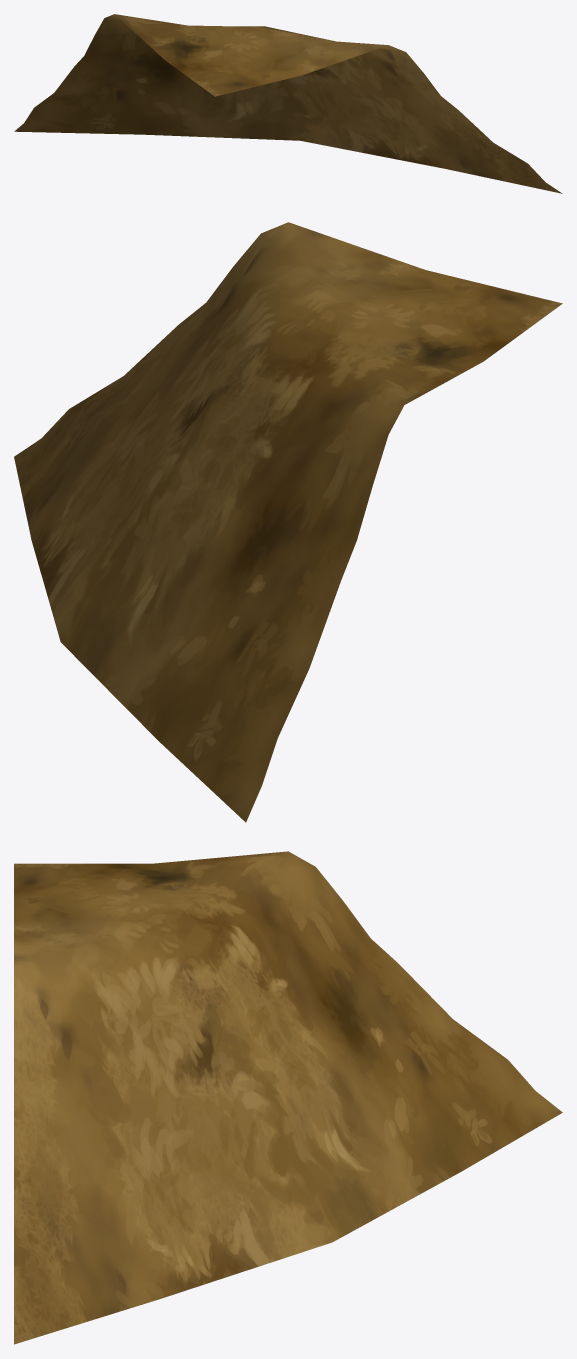
Rendered from Levelled_Slope_Corner_007.fbx.
3 renders of one model, top to bottom at view 1: azimuth 30°, elevation 25°; view 2: azimuth 150°, elevation 25°; view 3: azimuth 270°, elevation 25°, orthographic. The views are drawn at different scales.
Visible parts, largest first — view 1: Levelled_Slope_Corner_007; view 2: Levelled_Slope_Corner_007; view 3: Levelled_Slope_Corner_007.
Boxes of the visible parts, <box> form: Levelled_Slope_Corner_007: <box>14,14,562,193</box>; Levelled_Slope_Corner_007: <box>14,222,562,822</box>; Levelled_Slope_Corner_007: <box>14,851,562,1344</box>.
Size of the model in its own units: 10 by 5.25 by 10.
Materials: 1 (1 with a texture image).
